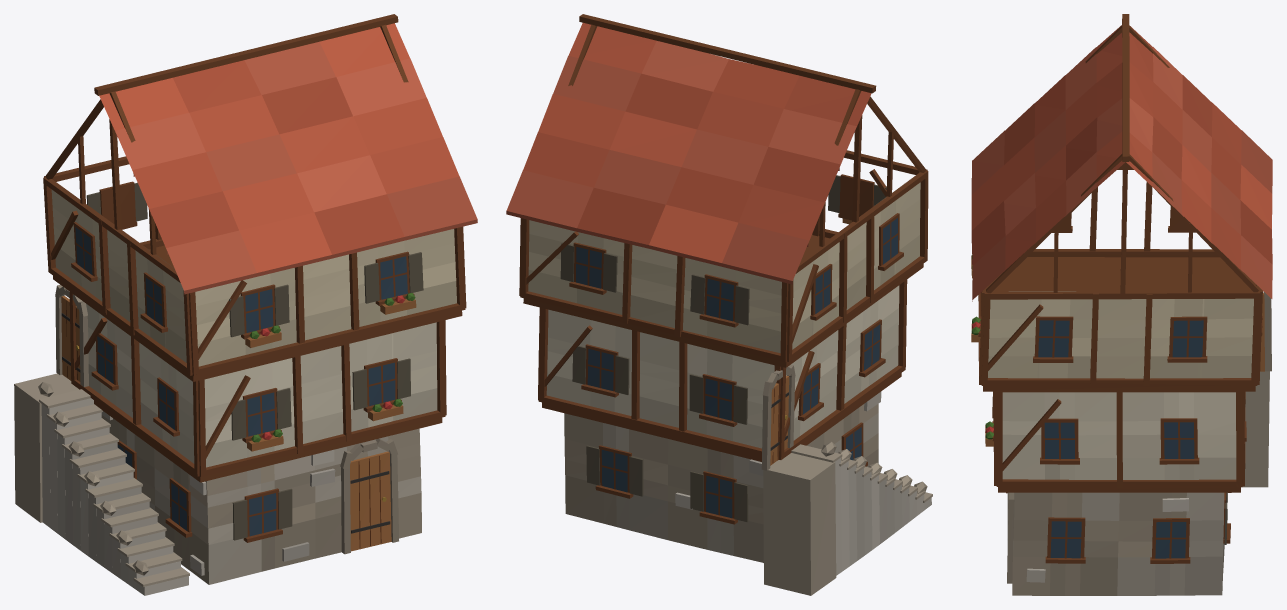
Rendered from timber-house-2.glb.
The picture shows the model from 3 angles, left to right: view 1: azimuth 30°, elevation 25°; view 2: azimuth 150°, elevation 25°; view 3: azimuth 270°, elevation 25°; orthographic projection. The views are drawn at different scales.
Visible parts, largest first — view 1: buildings/timber-house-2; view 2: buildings/timber-house-2; view 3: buildings/timber-house-2.
Part boxes in pixels (x1=…): buildings/timber-house-2: x1=14, y1=14, x2=477, y2=595; buildings/timber-house-2: x1=506, y1=14, x2=932, y2=595; buildings/timber-house-2: x1=971, y1=14, x2=1272, y2=595.
Bounding box in the file's own units: 6.98 × 10.01 × 6.01.
